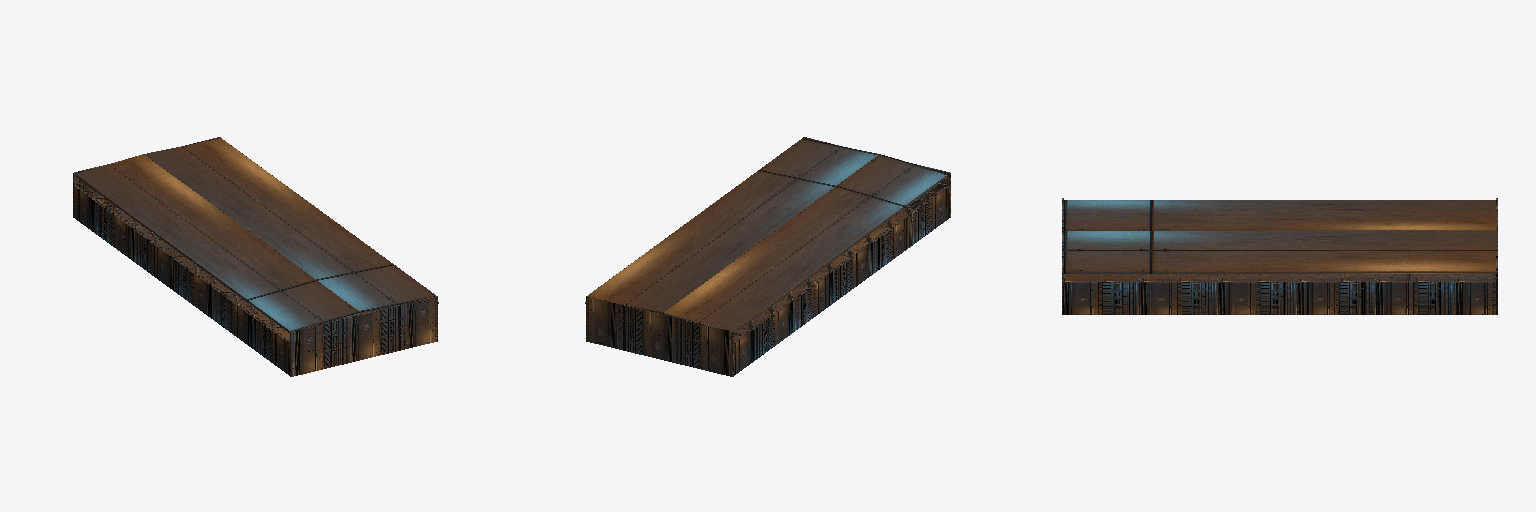
3 views of the same model, side by side, from view 1: azimuth 30°, elevation 25°; view 2: azimuth 150°, elevation 25°; view 3: azimuth 270°, elevation 25° (orthographic).
Parts seen in each view (by area): view 1: Box017, Box045, Box044, Box008, Plane001; view 2: Box017, Box045, Box044, Box008, Plane001; view 3: Box017, Box043, Plane001, Box008.
Part boxes in pixels (x1,y1,x2,y2): Box017: (75, 138, 435, 332); Box045: (74, 186, 289, 375); Box044: (73, 137, 437, 376); Box008: (73, 176, 438, 341); Plane001: (110, 207, 289, 340); Box017: (588, 138, 948, 332); Box045: (734, 186, 949, 375); Box044: (586, 137, 950, 376); Box008: (585, 176, 950, 341); Plane001: (734, 208, 913, 340); Box017: (1064, 200, 1496, 273); Box043: (1063, 282, 1496, 314); Plane001: (1065, 274, 1494, 280); Box008: (1064, 274, 1496, 282).
Bounding box in the file's own units: 174 × 52.54 × 440.
Materials: 3 (3 with a texture image).